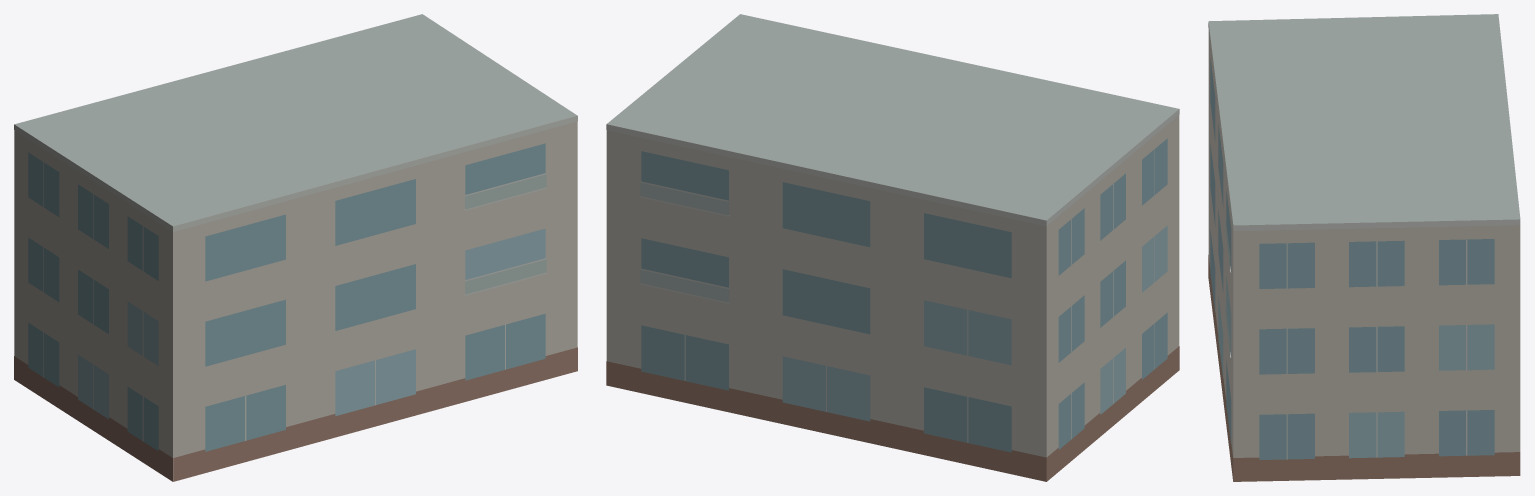
Rendered from survey-upis-32832860.glb.
3 renders of one model, left to right at view 1: azimuth 30°, elevation 25°; view 2: azimuth 150°, elevation 25°; view 3: azimuth 270°, elevation 25°, orthographic. The views are drawn at different scales.
Visible parts, largest first — view 1: survey-upis-32832860.tmp; view 2: survey-upis-32832860.tmp; view 3: survey-upis-32832860.tmp.
Part boxes in pixels (x1,y1,x2,y2): survey-upis-32832860.tmp: (14,14,577,481); survey-upis-32832860.tmp: (606,14,1179,481); survey-upis-32832860.tmp: (1208,14,1520,481).
Size of the model in its own units: 19.64 by 11.1 by 12.25.
